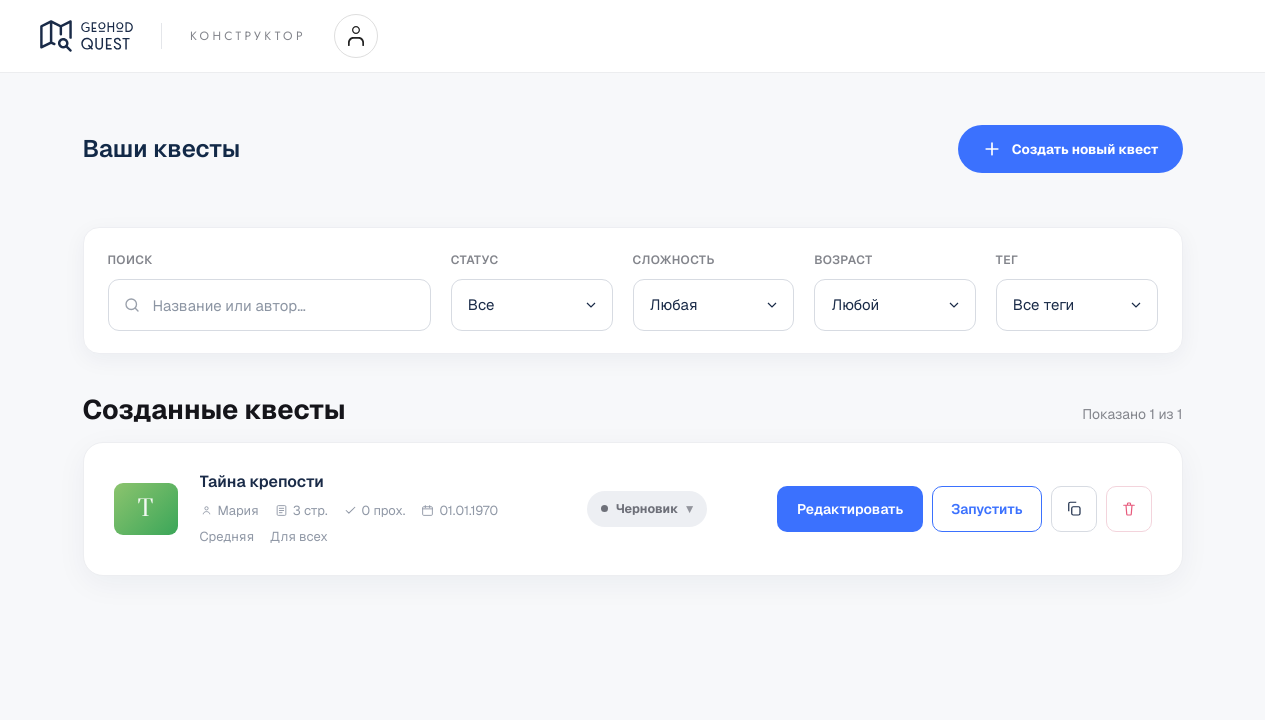
Test: dashboard: deleting a quest › asks whether to delete for good, naming the quest
The width and height of the screenshot is (1280, 720).
Click the button titled "Удалить" at (1128, 509), box [1106,486,1152,532]
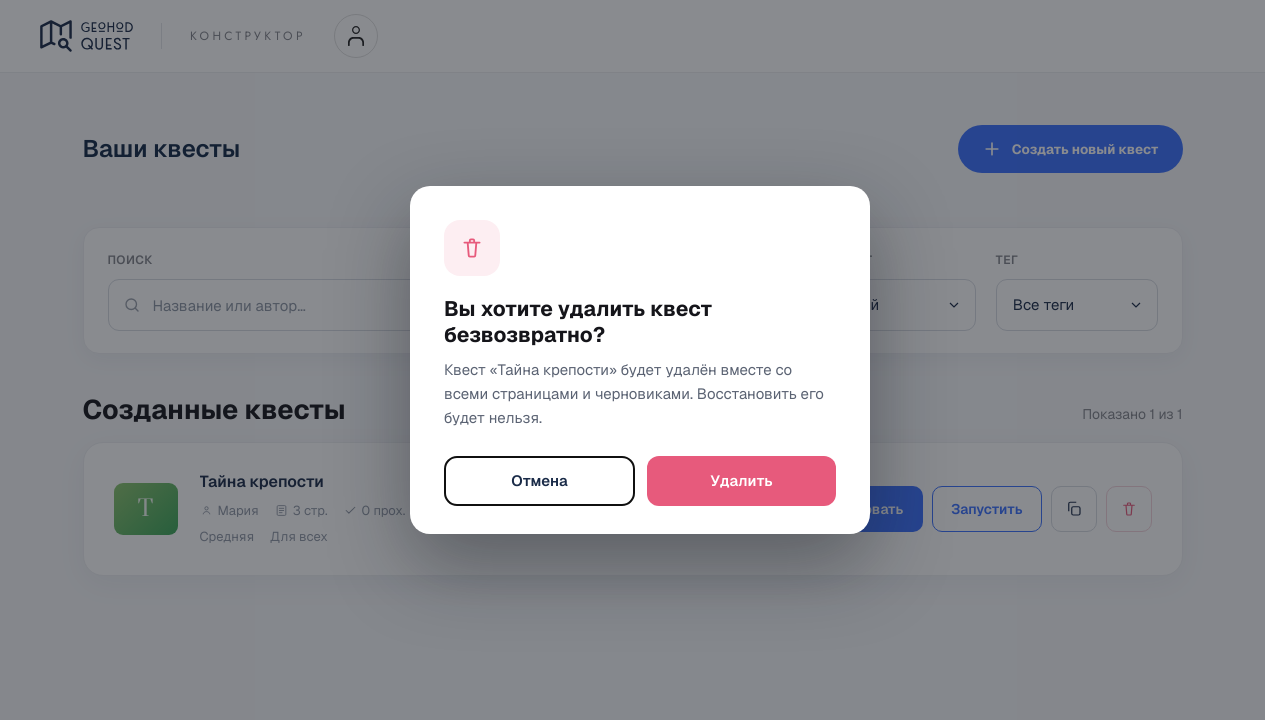
Now the dialog "Вы хотите удалить квест безвозвратно?" shows "Квест «Тайна крепости» будет удалён", box [410,186,870,534]
Now the dialog "Вы хотите удалить квест безвозвратно?" shows "Восстановить его будет нельзя.", box [444,360,824,427]
